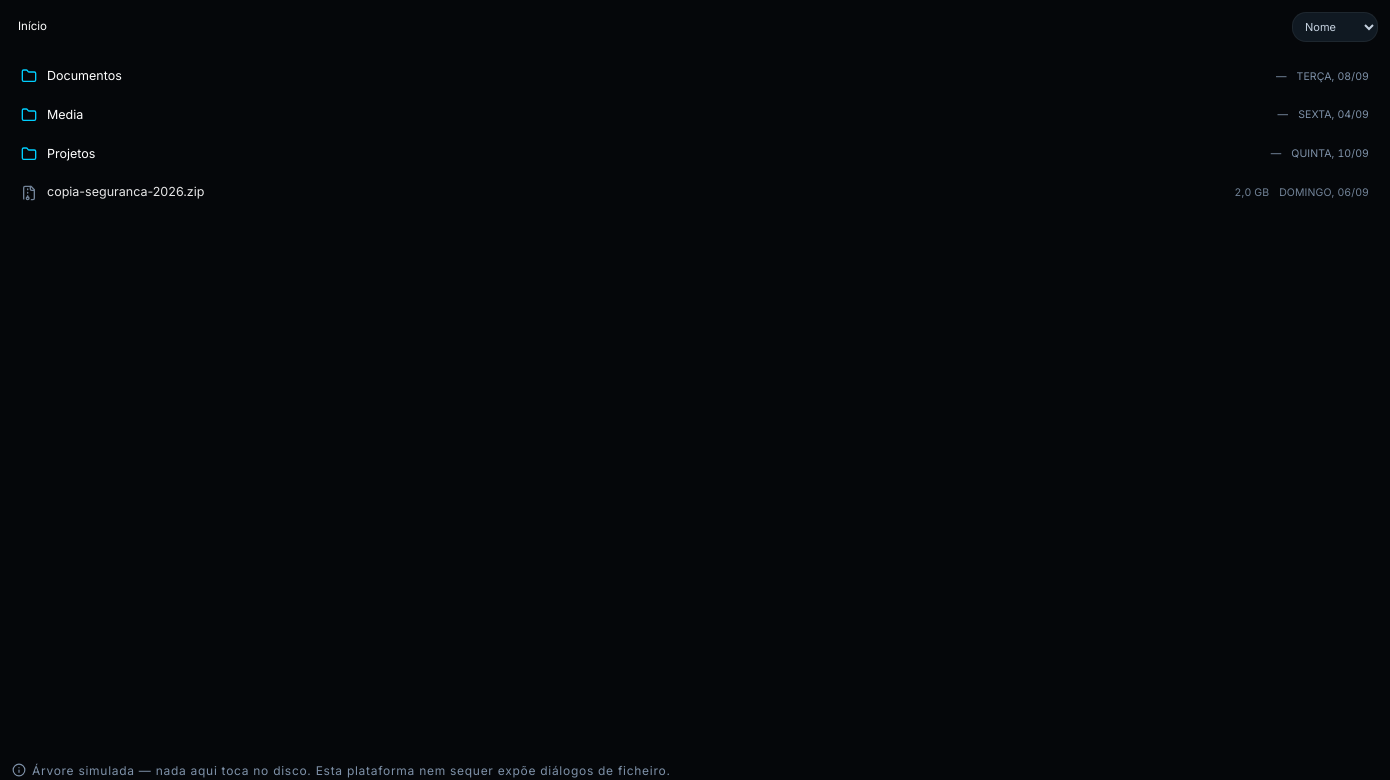
Scenario: explorador de ficheiros › entrar numa pasta mostra o que lá está
The width and height of the screenshot is (1390, 780).
Click the button "Documentos — TERÇA, 08/09" at [84, 76], box [12, 58, 1378, 95]
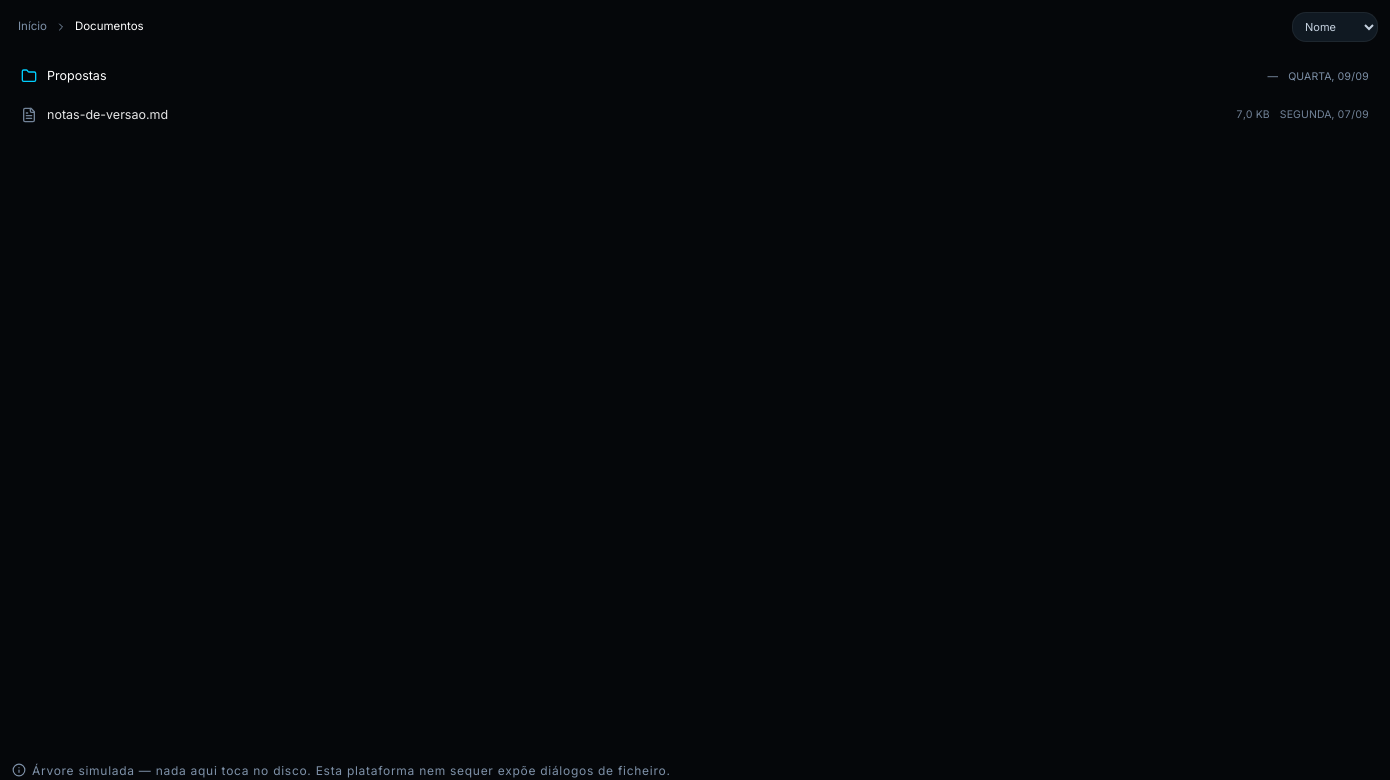
Expected: the button "Propostas — QUARTA, 09/09" is shown, [12, 58, 1378, 95]
Expected: the button "Media" is gone
